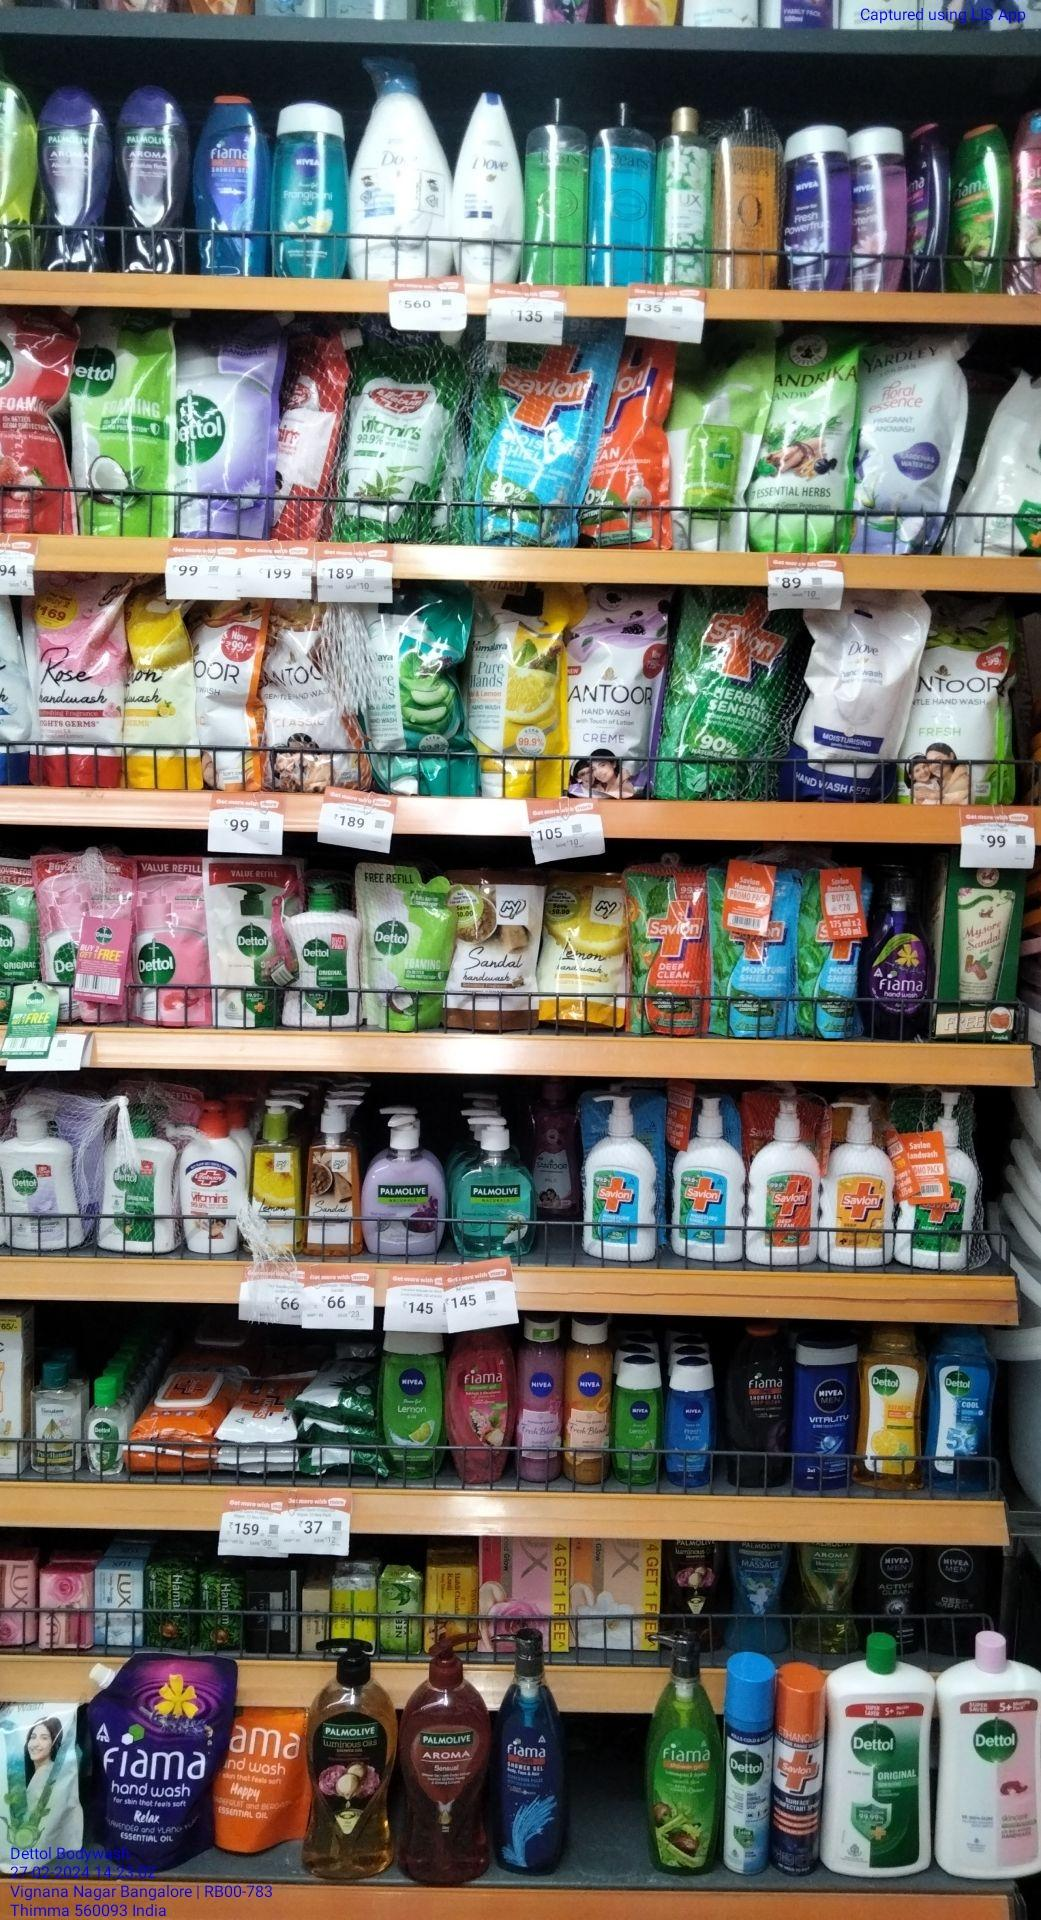Dettol_Bodywash_Cool: (932, 1328, 997, 1494)
Dettol_Bodywash_Refresh: (860, 1325, 926, 1493)
Dove_Deep_Moisture_Body_Wash_250ML: (456, 85, 527, 288)
Fiama_Shower_Gel_Lemongrass_and_Jojoba_250ML: (953, 123, 1009, 292)
Fiama_Shower_Gel_Patchouli_and_Macadamia_250ML: (453, 1338, 514, 1484)
Lux_Body_Wash_Skin_Detox_Freesia_Scent_and_Alove_Vera_245ML: (658, 103, 712, 288)
Nivea_Shower_Gel_Frangipani_and_Oil_250ML: (274, 99, 350, 278)
Nivea_Shower_Gel_Fresh_Powerfruit_250ML: (783, 122, 838, 297)
Nivea_Shower_Gel_Lemon_and_Oil_250ML: (381, 1328, 444, 1483), (615, 1356, 658, 1487)
Palmolive_Aroma_Relax_250ML: (123, 78, 188, 279), (40, 88, 106, 273)
Pears_Pure_Glycerin_and_Lemon_Flower_Extracts_Body_Wash_250ML: (526, 95, 585, 283)
Pears_Pure_Glycerin_and_Mint_Extracts_Body_Wash_250ML: (594, 95, 650, 286)
